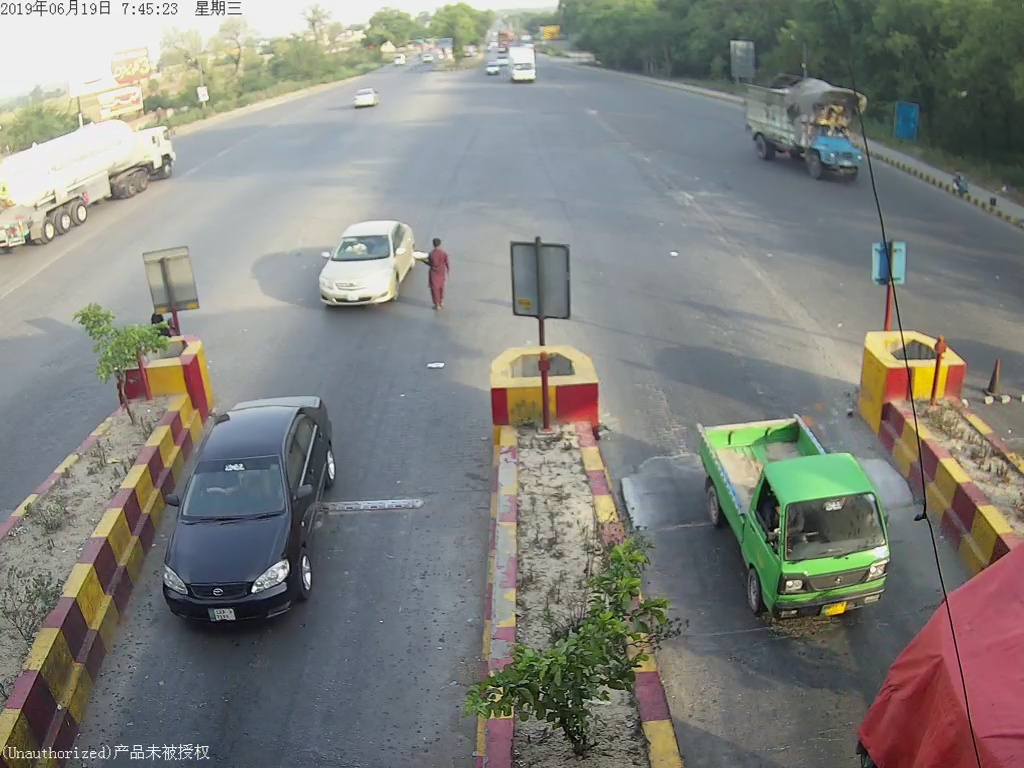Cat-1: (690, 400, 890, 610), (165, 395, 331, 641), (319, 217, 409, 314)
